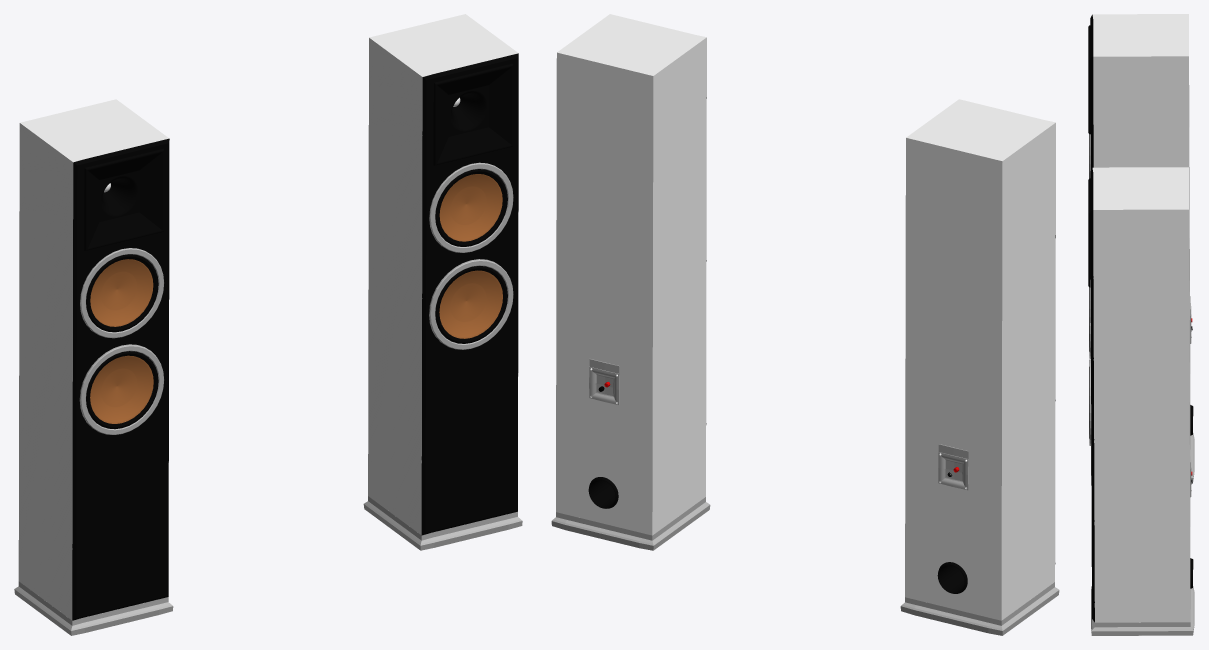
File: speaker_hq.glb
3 views of the same model, side by side, from view 1: azimuth 30°, elevation 25°; view 2: azimuth 150°, elevation 25°; view 3: azimuth 270°, elevation 25° (orthographic). The views are drawn at different scales.
Parts seen in each view (by area): view 1: speaker_full__Cube.010, wood_speaker_Cube.001, tweeter_Cube.004, speaker_2_Cylinder.004, speaker_1_Cylinder.002; view 2: speaker_full__Cube.010, wood_speaker_Cube.001, borne_Cube.006, Bass_Reflex_Cylinder.006; view 3: wood_speaker_Cube.001, speaker_full__Cube.010, tweeter_Cube.004, speaker_2_Cylinder.004.
Part boxes in pixels (left/top/right/bottom): speaker_full__Cube.010: left=14, top=99, right=173, bottom=635; wood_speaker_Cube.001: left=363, top=14, right=522, bottom=550; tweeter_Cube.004: left=433, top=63, right=513, bottom=165; speaker_2_Cylinder.004: left=429, top=259, right=513, bottom=349; speaker_1_Cylinder.002: left=429, top=162, right=513, bottom=252; speaker_full__Cube.010: left=900, top=99, right=1059, bottom=635; wood_speaker_Cube.001: left=551, top=14, right=710, bottom=550; borne_Cube.006: left=589, top=359, right=619, bottom=404; Bass_Reflex_Cylinder.006: left=588, top=477, right=618, bottom=508; wood_speaker_Cube.001: left=1090, top=167, right=1194, bottom=635; speaker_full__Cube.010: left=1088, top=14, right=1194, bottom=481; tweeter_Cube.004: left=1088, top=178, right=1090, bottom=287; speaker_2_Cylinder.004: left=1089, top=359, right=1091, bottom=445.
Bounding box in the file's own units: 18.51 × 18.55 × 4.19.
